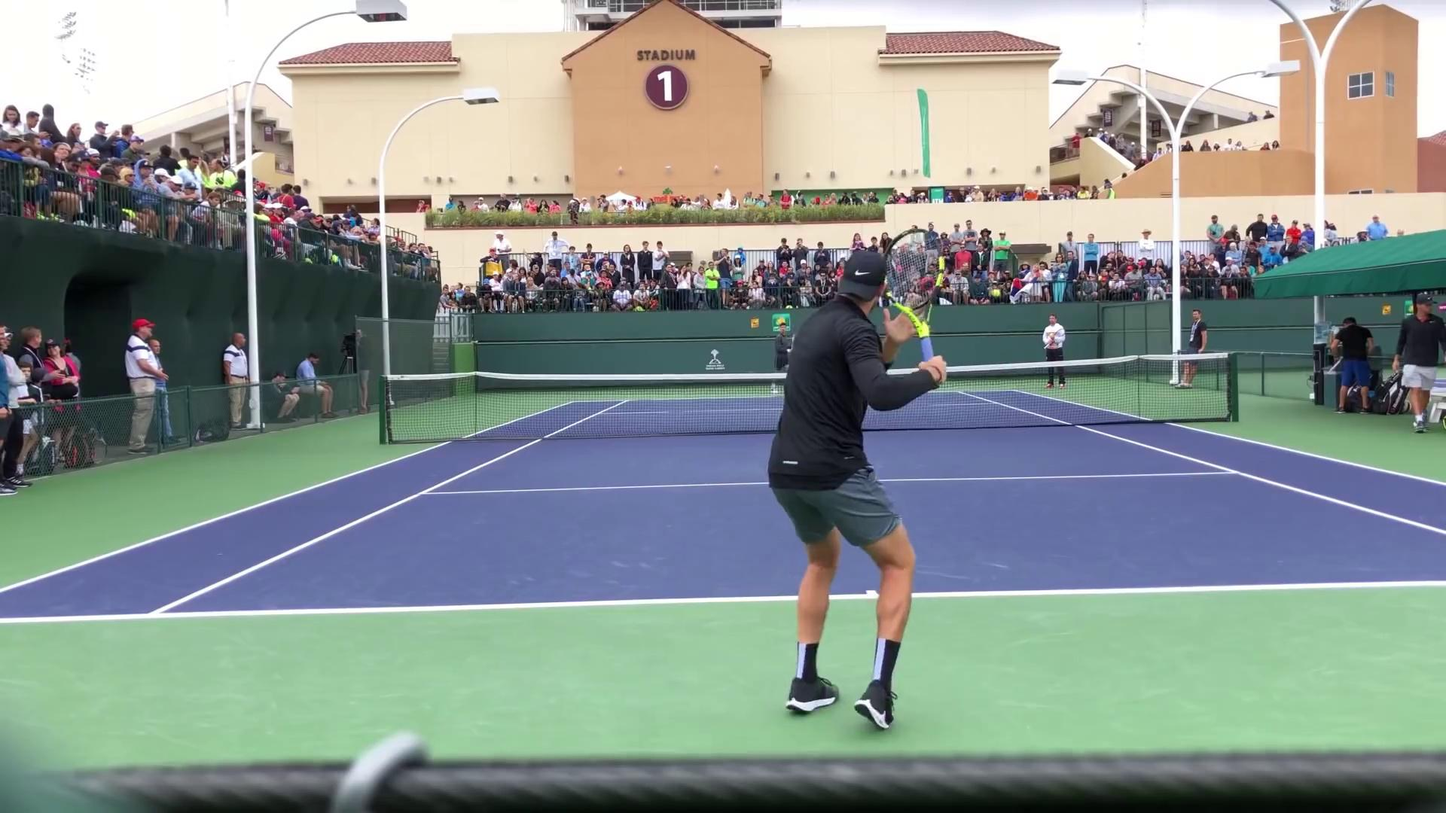ball: (1017, 294, 1020, 297)
